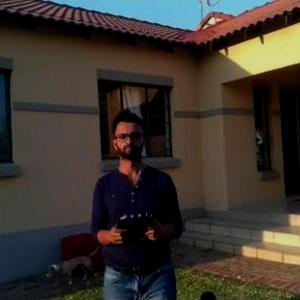follow: (86, 105, 191, 299)
null: (40, 241, 101, 290)
